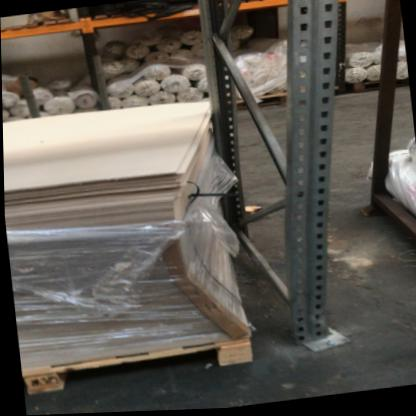vertical_damage: (284, 276, 357, 361)
